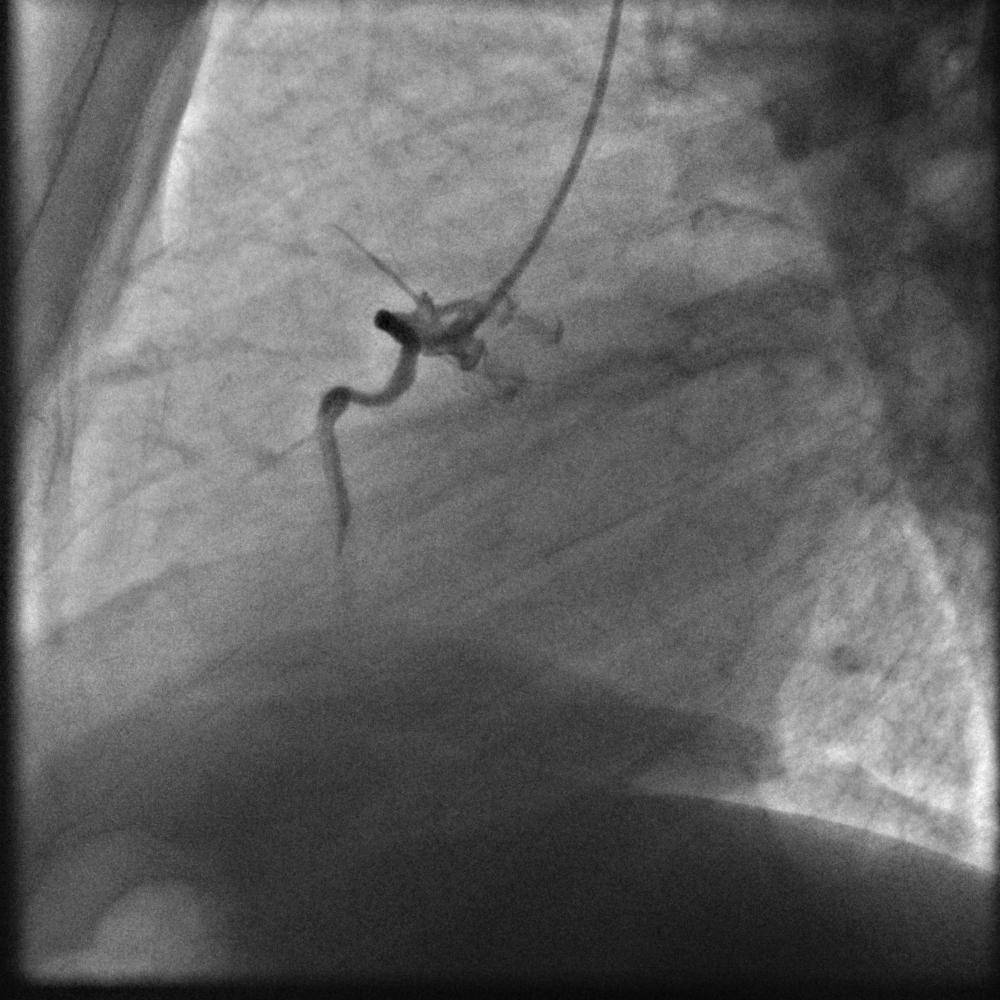Stenosis: (348, 383, 377, 407)
